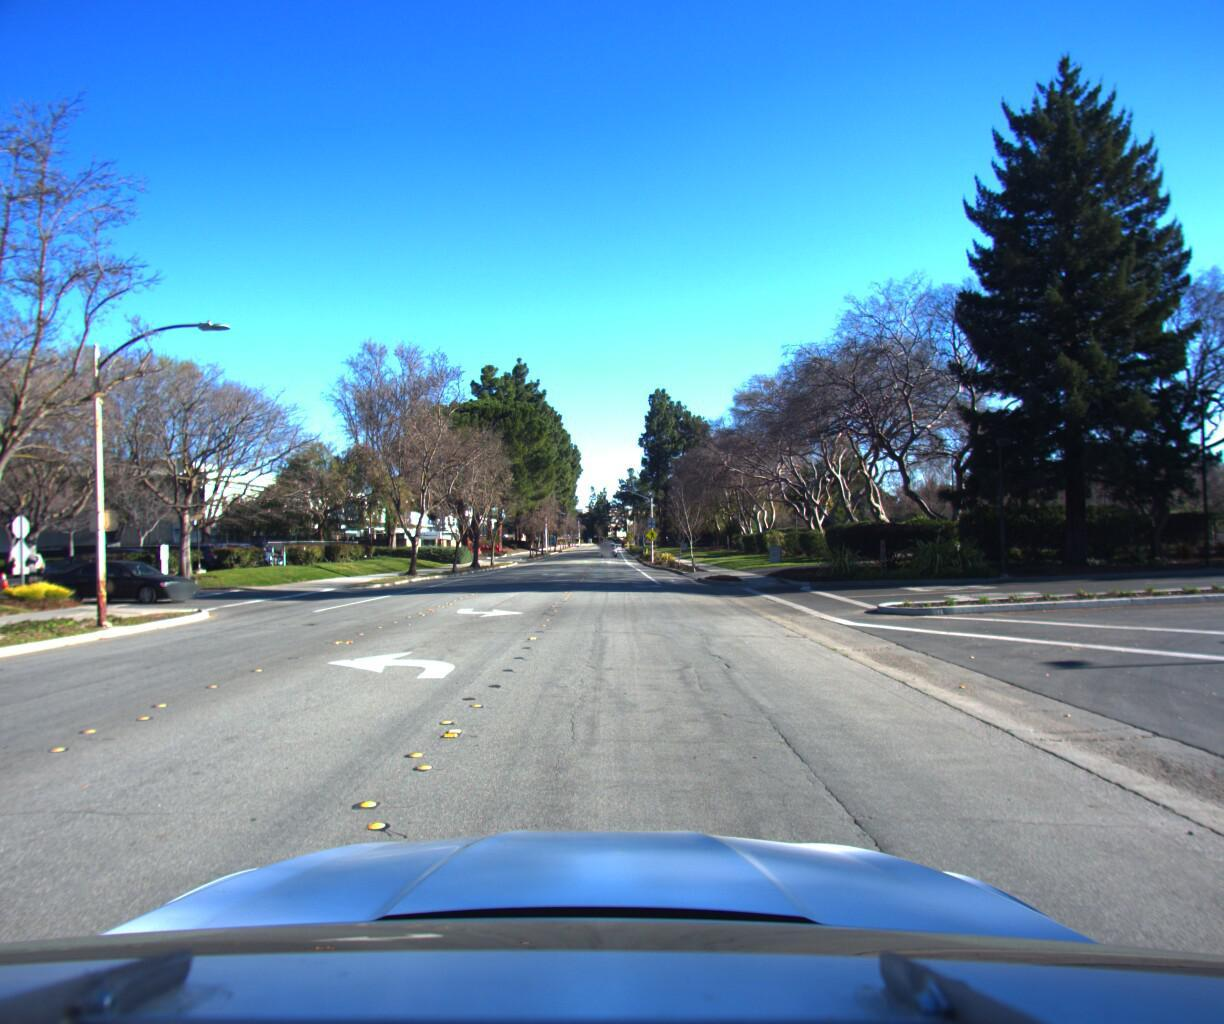car: (43, 548, 211, 601)
